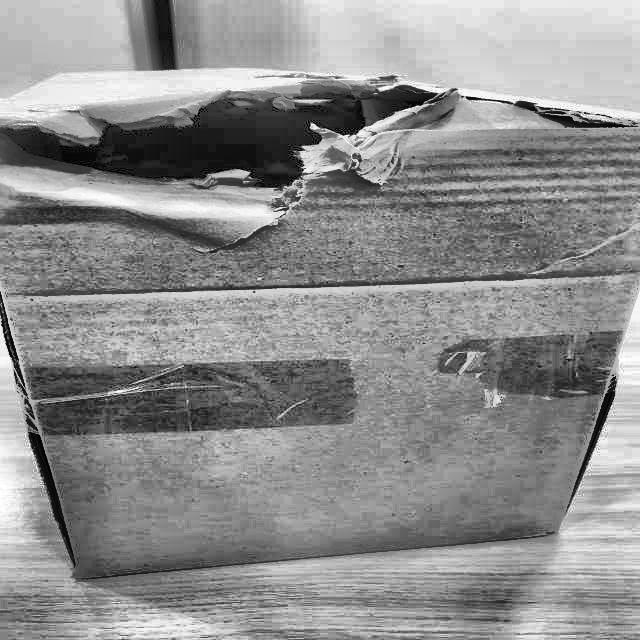box: (0, 53, 639, 592)
hole: (0, 92, 640, 210)
